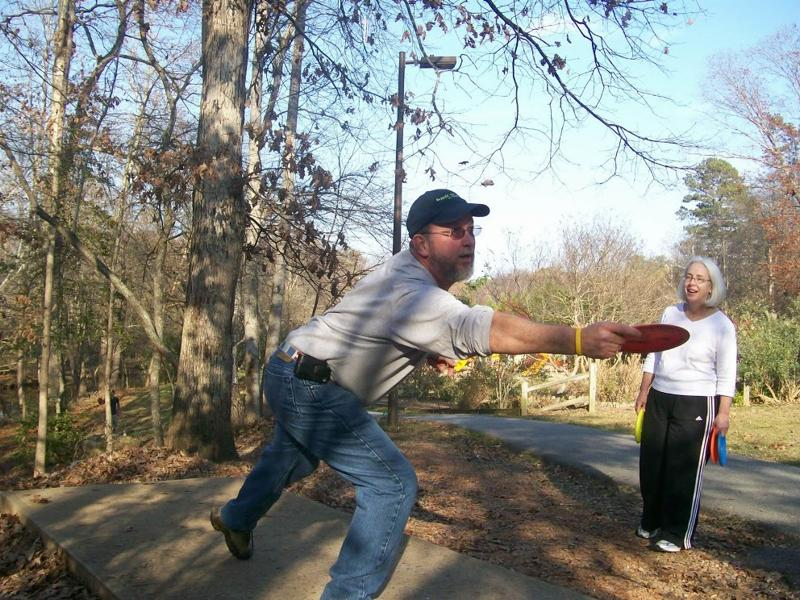person: (210, 189, 643, 600)
